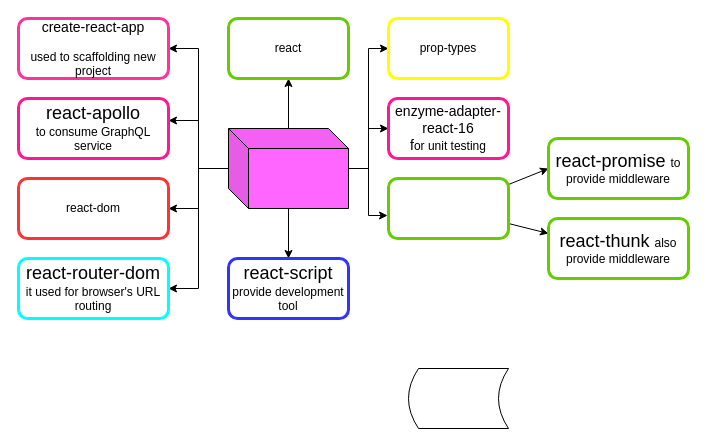
This 707x446 diagram has some shape labels left out. The centre of each missing label's shape, as x and y in pixels:
React Package: point 288,168
react-native: point 458,398
react-redux to integrate with Redux: point 448,208
